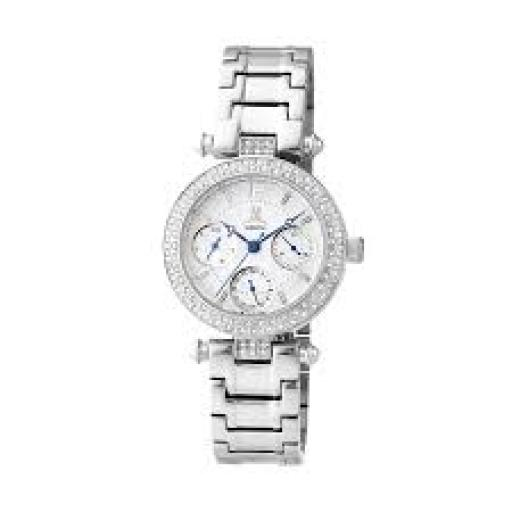KolSaati: (161, 24, 360, 477)
